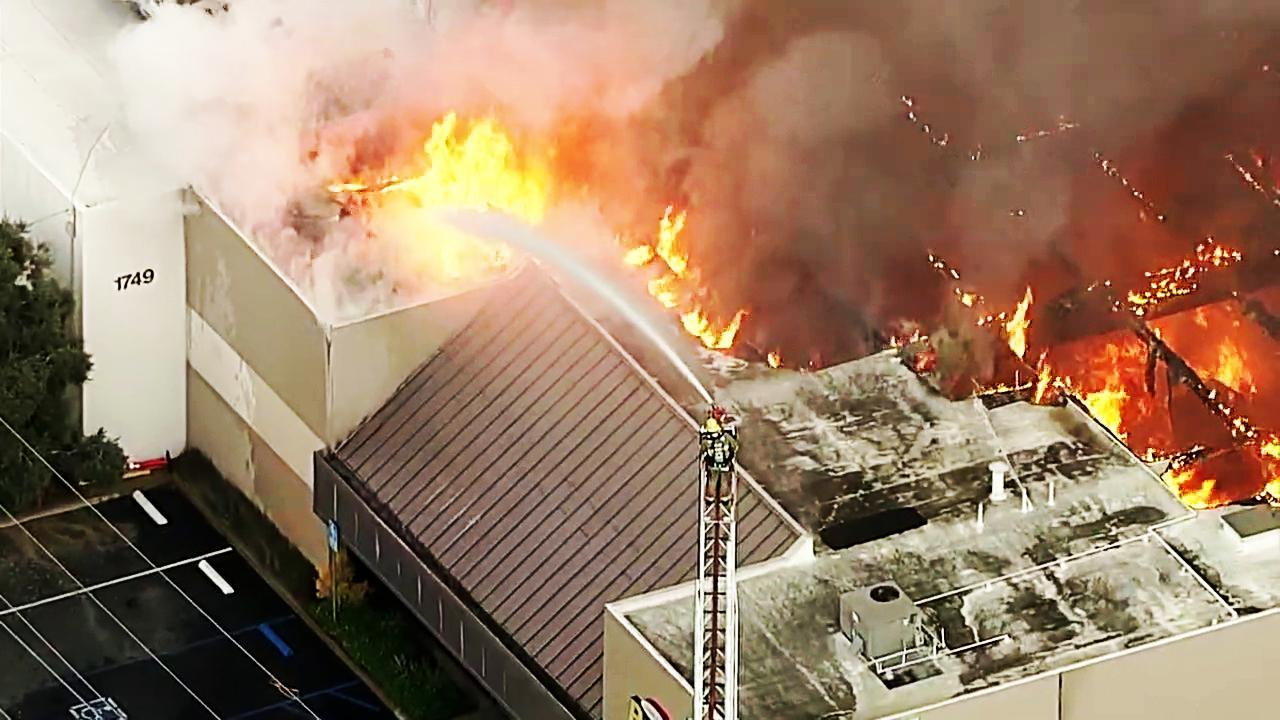fire: (397, 129, 534, 254)
smoke: (840, 5, 1188, 239)
